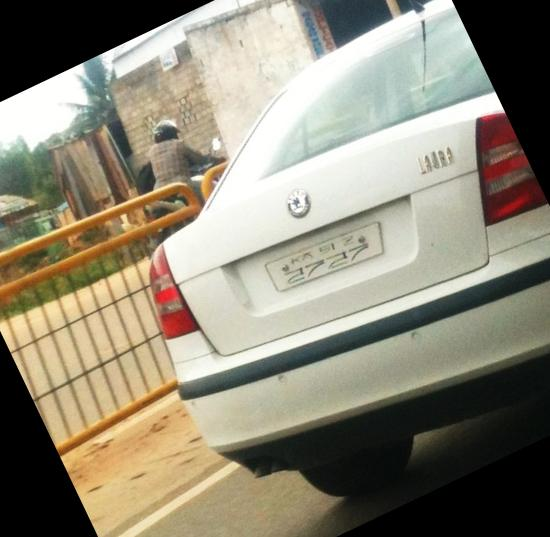plate: (259, 197, 406, 318)
